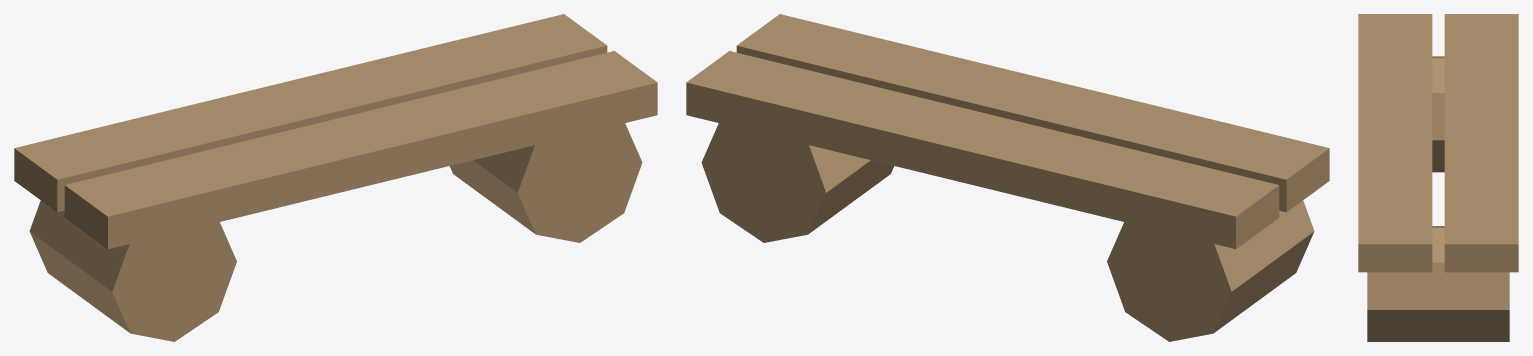
Rendered from bench_02.glb.
3 renders of one model, left to right at view 1: azimuth 30°, elevation 25°; view 2: azimuth 150°, elevation 25°; view 3: azimuth 270°, elevation 25°, orthographic. The views are drawn at different scales.
Visible parts, largest first — view 1: Bench_02; view 2: Bench_02; view 3: Bench_02.
Part boxes in pixels (x1,y1,x2,y2): Bench_02: (14,14,657,341); Bench_02: (686,14,1329,341); Bench_02: (1358,14,1518,341).
Size of the model in its own units: 1.76 by 0.45 by 0.52.
